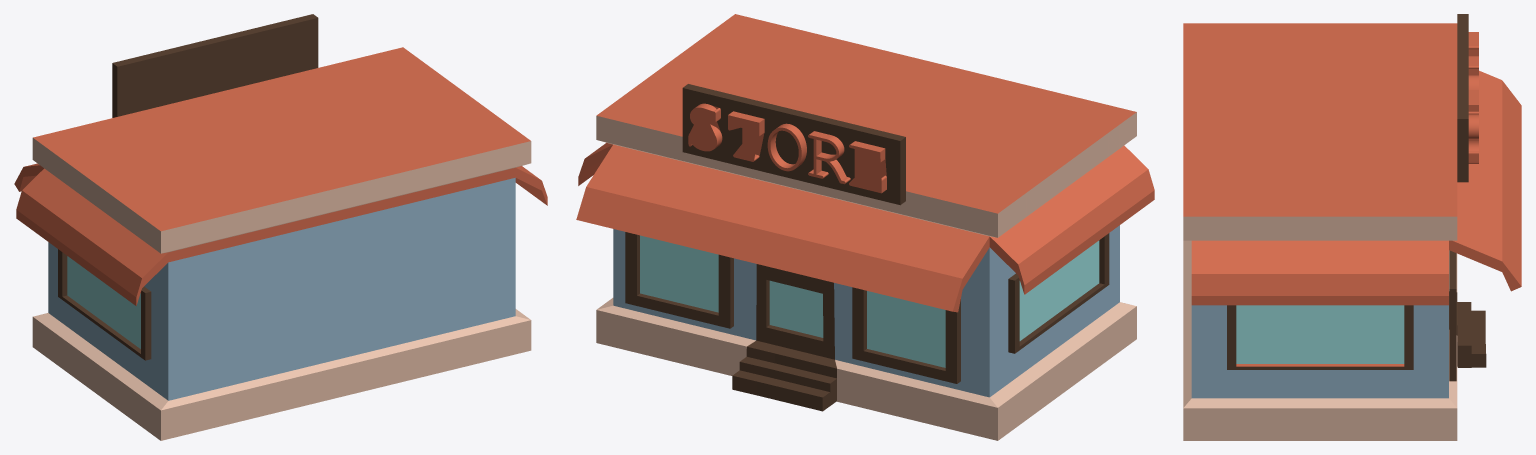
File: Store FBX.fbx
The picture shows the model from 3 angles, left to right: view 1: azimuth 30°, elevation 25°; view 2: azimuth 150°, elevation 25°; view 3: azimuth 270°, elevation 25°; orthographic projection. The views are drawn at different scales.
Visible parts, largest first — view 1: store:typeMesh1; view 2: store:typeMesh1; view 3: store:typeMesh1.
Part boxes in pixels (left/top/right/bottom): store:typeMesh1: left=14, top=14, right=547, bottom=440; store:typeMesh1: left=576, top=14, right=1154, bottom=440; store:typeMesh1: left=1183, top=14, right=1521, bottom=440.
Size of the model in its own units: 12.1 by 7.3 by 8.06.
